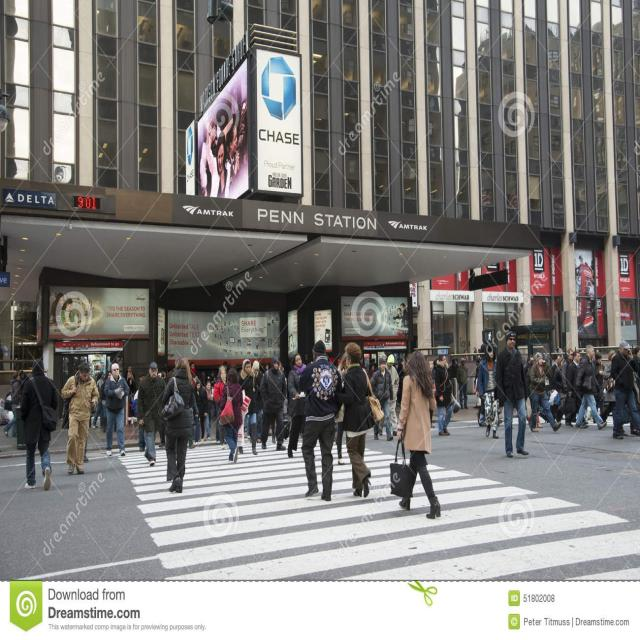body: (389, 348, 442, 520), (339, 341, 385, 499), (298, 338, 342, 502), (198, 99, 258, 204), (158, 354, 200, 494), (20, 359, 59, 492), (495, 329, 529, 459), (61, 361, 99, 477), (137, 360, 167, 466), (610, 339, 640, 441), (526, 350, 562, 434), (574, 343, 608, 431), (258, 354, 288, 452), (103, 362, 130, 457), (286, 352, 308, 459), (434, 351, 461, 437), (219, 368, 243, 463), (477, 342, 500, 440), (333, 350, 352, 466), (369, 356, 394, 442), (52, 289, 94, 336), (564, 351, 589, 428), (162, 364, 183, 451), (245, 359, 264, 443), (268, 359, 285, 444), (384, 352, 400, 438), (212, 364, 228, 448), (573, 250, 596, 306), (132, 374, 148, 452), (601, 349, 617, 423), (4, 372, 22, 436), (192, 379, 208, 446), (551, 356, 565, 423), (386, 301, 409, 336), (593, 352, 605, 416), (156, 372, 166, 448), (100, 371, 112, 433), (456, 358, 470, 410), (522, 353, 534, 412), (562, 346, 576, 396), (203, 379, 214, 442), (427, 360, 437, 429), (188, 392, 199, 450), (472, 356, 483, 409), (2, 382, 14, 426), (236, 359, 252, 391), (631, 345, 640, 389), (543, 351, 560, 373), (188, 361, 200, 387), (14, 364, 29, 382), (447, 357, 459, 379), (463, 347, 480, 362), (366, 356, 378, 376), (125, 364, 136, 385), (215, 403, 220, 443), (96, 372, 105, 394), (84, 438, 90, 465), (201, 369, 217, 379), (536, 411, 544, 429), (624, 403, 630, 425), (455, 358, 461, 376), (264, 364, 270, 370)
